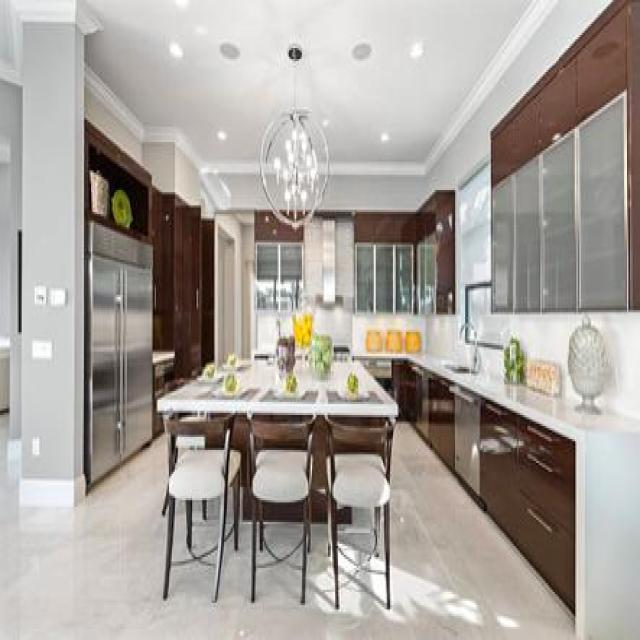dishwasher: (454, 380, 479, 500)
